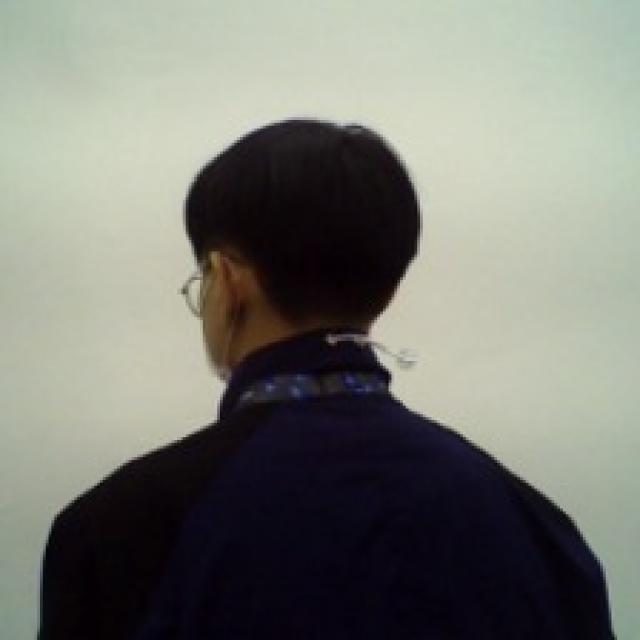no_gloves: (180, 113, 426, 337)
